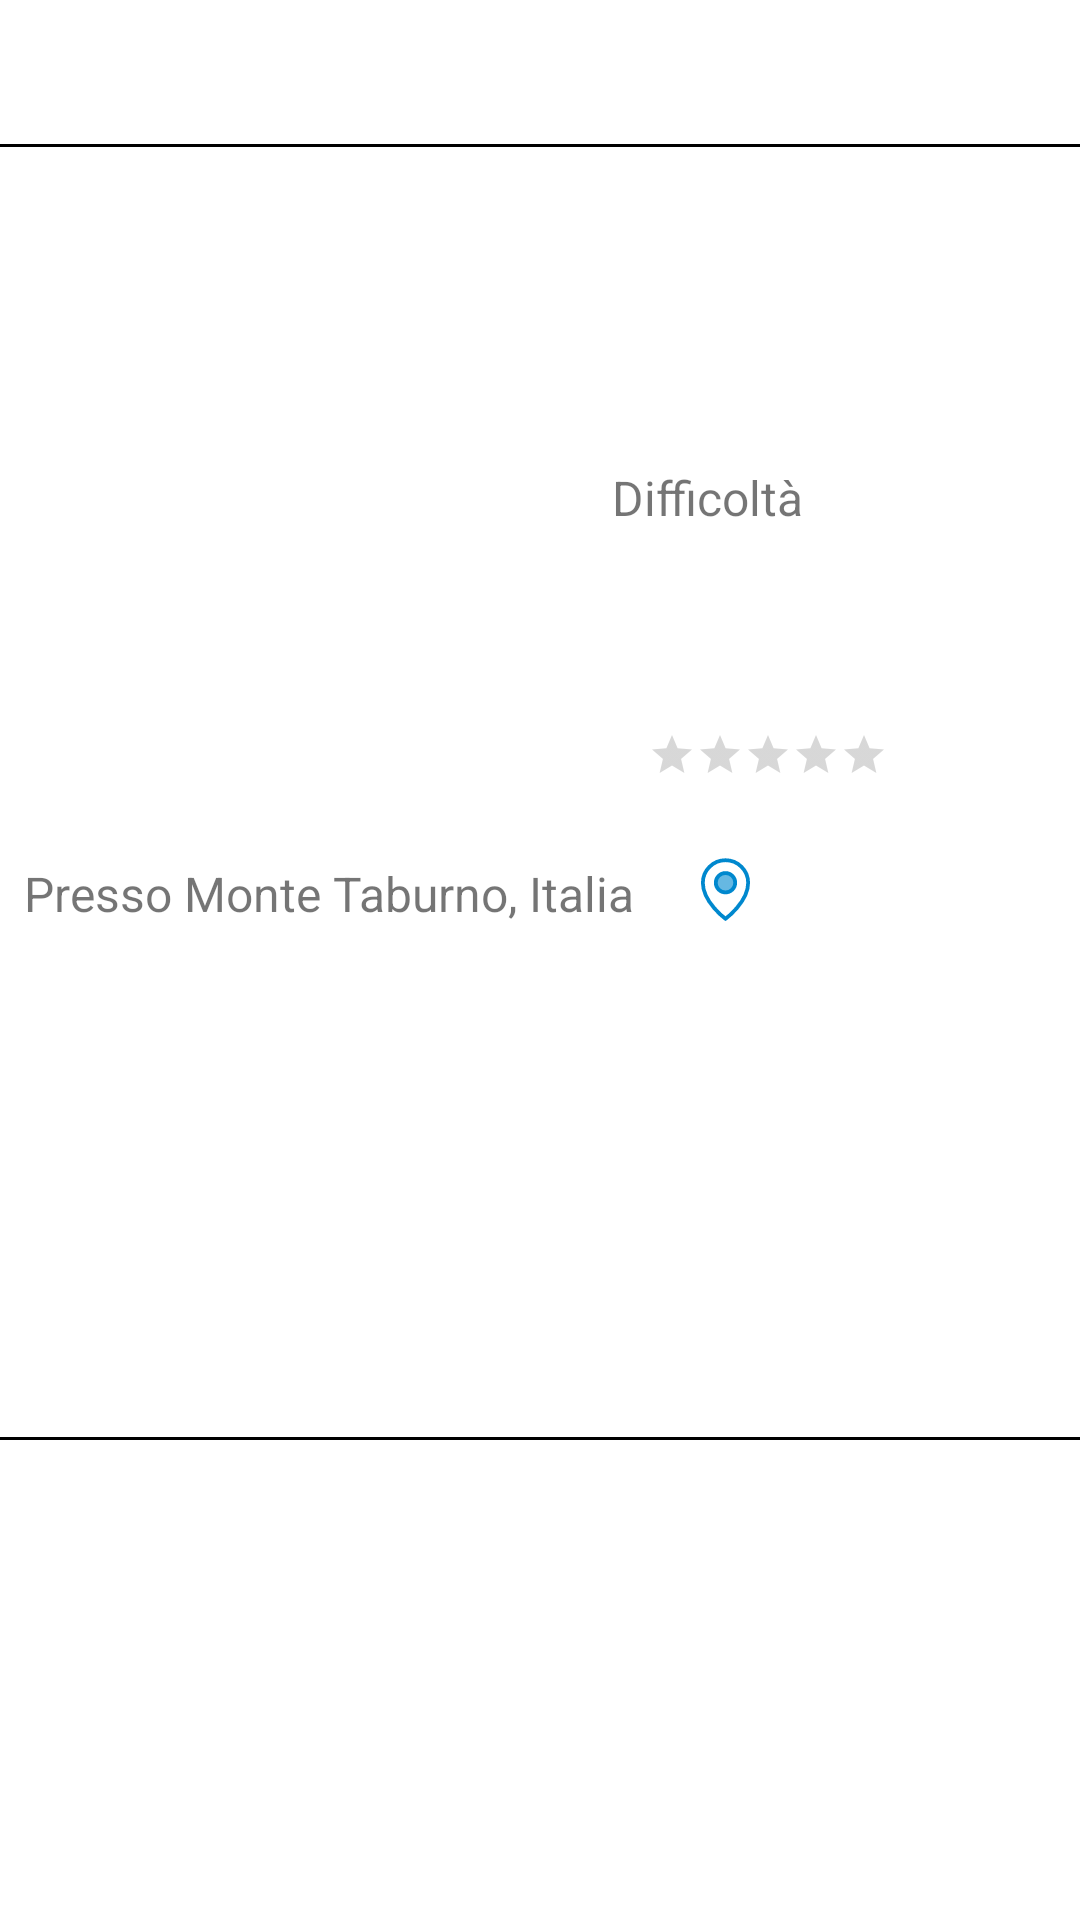

Icons on this 1080px×1920px Android screen, each with the point to tap as (x=x, y=y):
location pin: (x=725, y=889)
